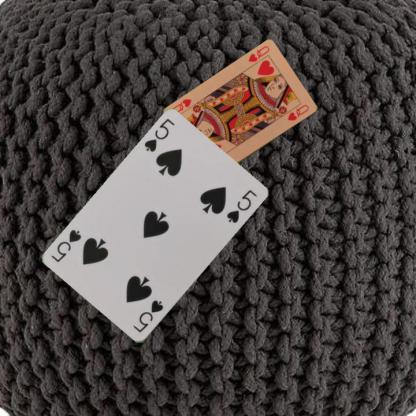5s: (142, 116, 176, 154), (130, 298, 165, 334)
Qh: (246, 43, 270, 63)
